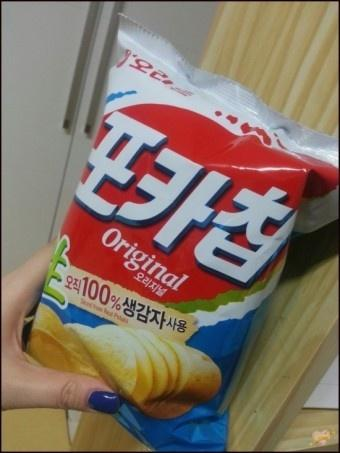snack: (25, 12, 340, 453)
